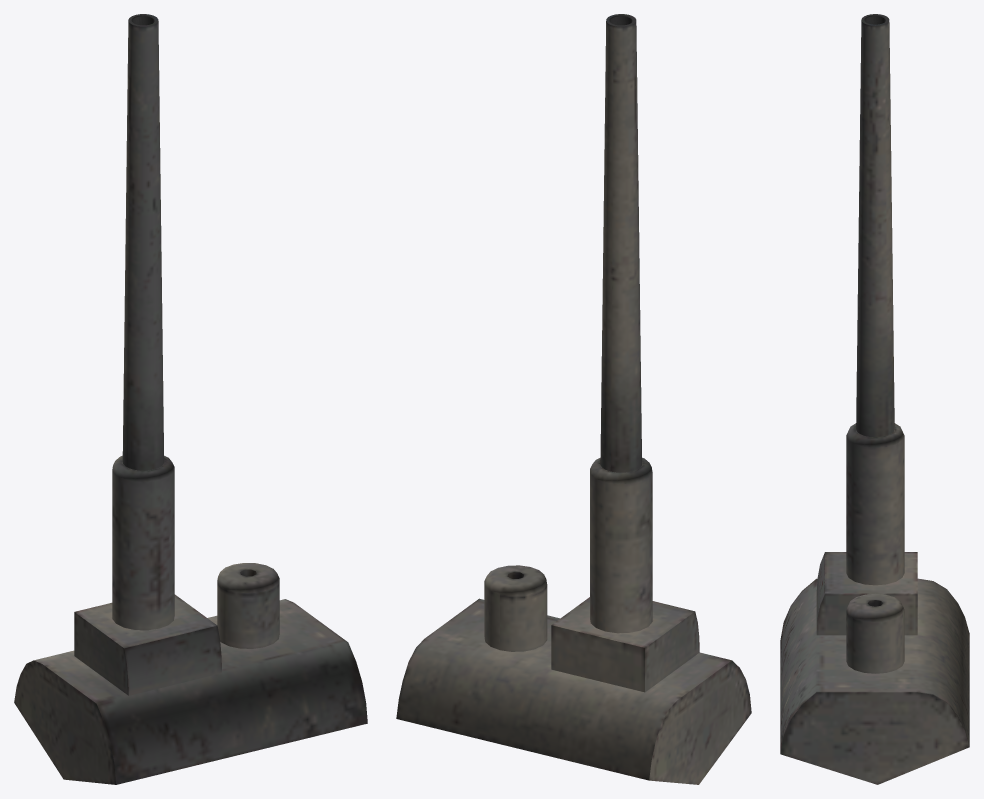
Rendered from Gun_01.glb.
3 renders of one model, left to right at view 1: azimuth 30°, elevation 25°; view 2: azimuth 150°, elevation 25°; view 3: azimuth 270°, elevation 25°, orthographic. The views are drawn at different scales.
Parts seen in each view (by area): view 1: set_0_group_0; view 2: set_0_group_0; view 3: set_0_group_0.
Part boxes in pixels (box(x1,y1,x2,y2)): set_0_group_0: box(14, 14, 367, 784); set_0_group_0: box(396, 14, 751, 784); set_0_group_0: box(780, 14, 969, 784).
Size of the model in its own units: 0.5974 by 1.68 by 0.4197.
1 material, 1 textured.
